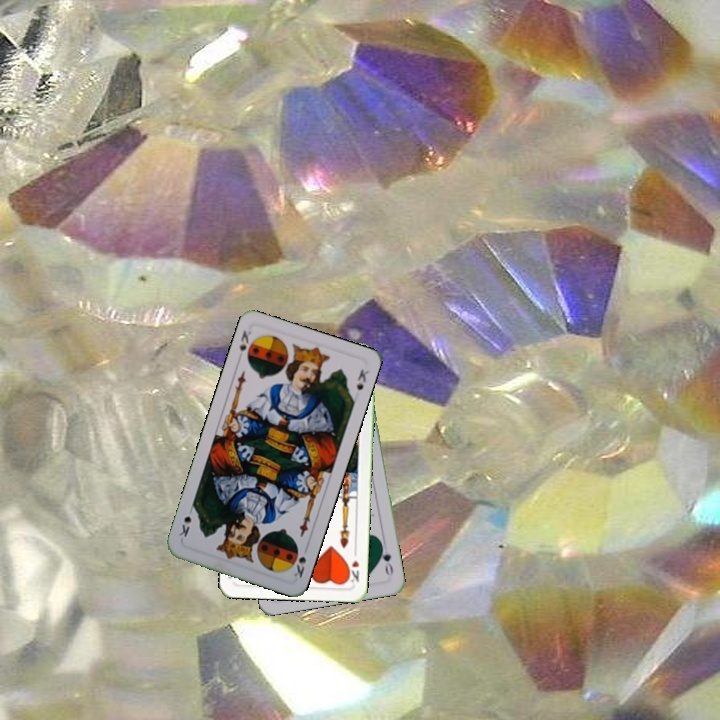GO: (376, 540, 396, 579)
HK: (343, 546, 362, 586)
SK: (290, 542, 311, 581), (235, 326, 254, 364)
